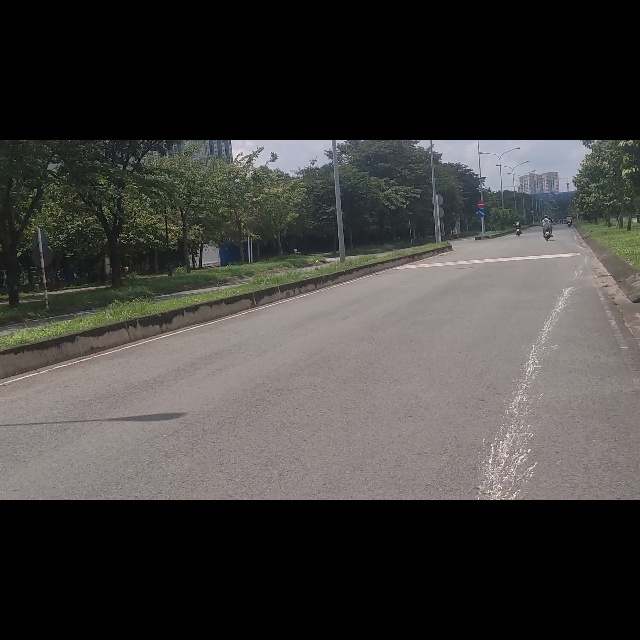bien_hieu_lenh: (477, 108, 486, 121), (478, 123, 486, 137)
